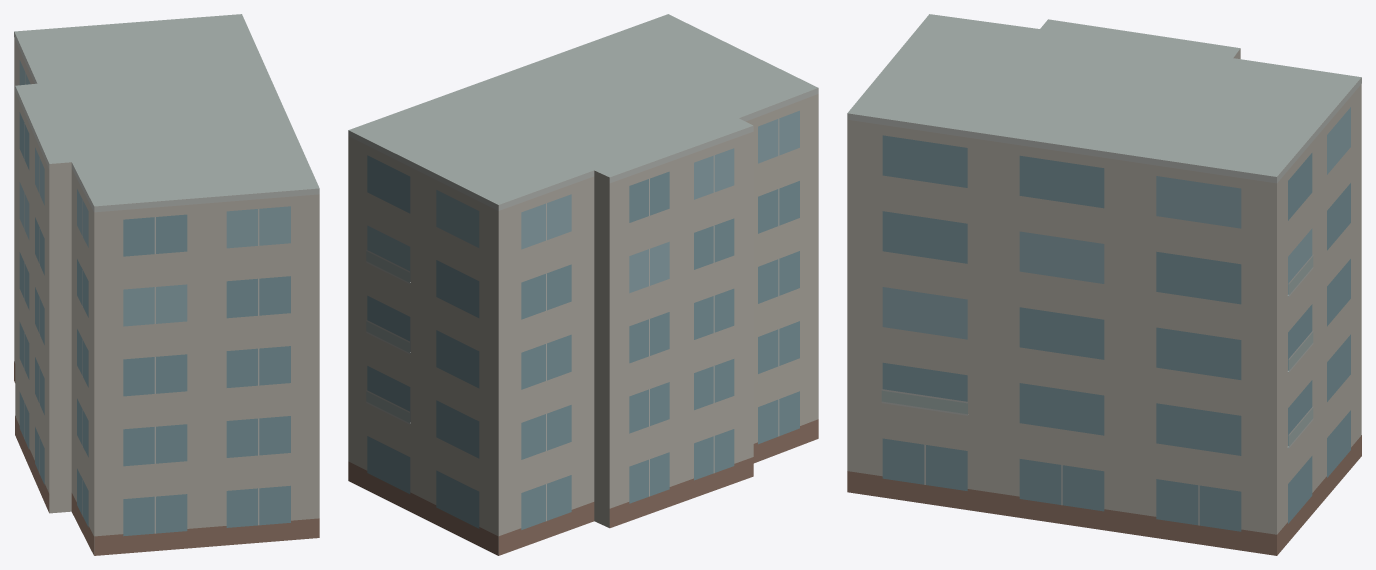
Rendered from survey-upis-33035048.glb.
3 renders of one model, left to right at view 1: azimuth 30°, elevation 25°; view 2: azimuth 150°, elevation 25°; view 3: azimuth 270°, elevation 25°, orthographic. The views are drawn at different scales.
Visible parts, largest first — view 1: survey-upis-33035048.tmp; view 2: survey-upis-33035048.tmp; view 3: survey-upis-33035048.tmp.
Part boxes in pixels (x1,y1,x2,y2): survey-upis-33035048.tmp: (14,14,319,555); survey-upis-33035048.tmp: (348,14,818,555); survey-upis-33035048.tmp: (847,14,1361,555).
Size of the model in its own units: 13.29 by 14.4 by 17.73.
